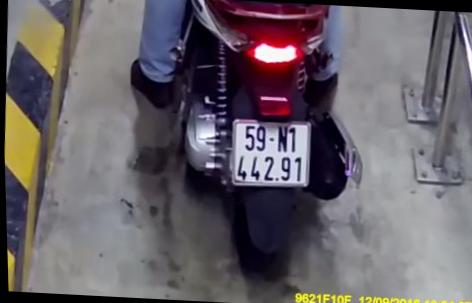LP: (227, 116, 314, 191)
